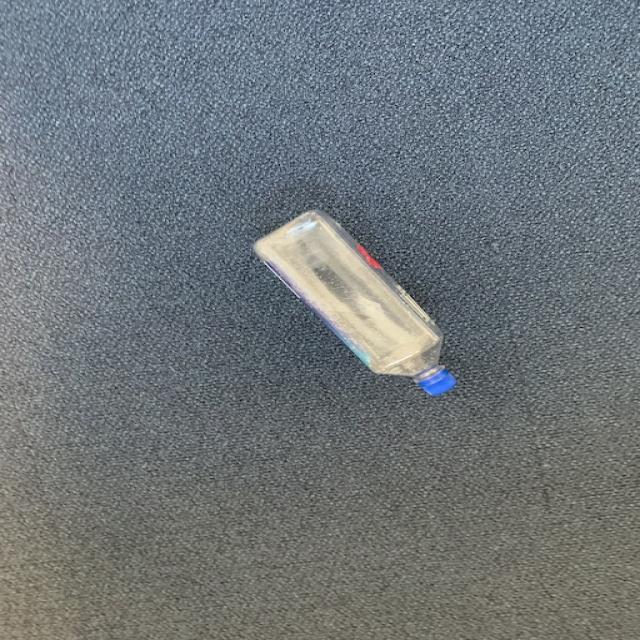Waste: (256, 211, 458, 396)
